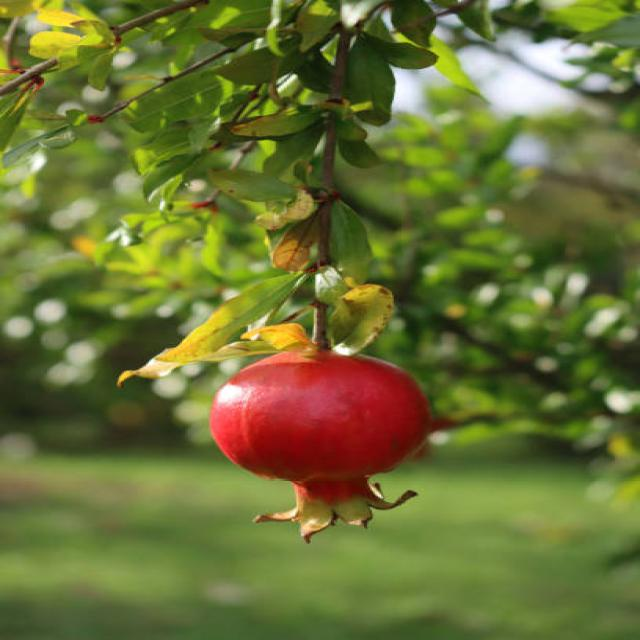Ripe: (212, 345, 442, 544)
